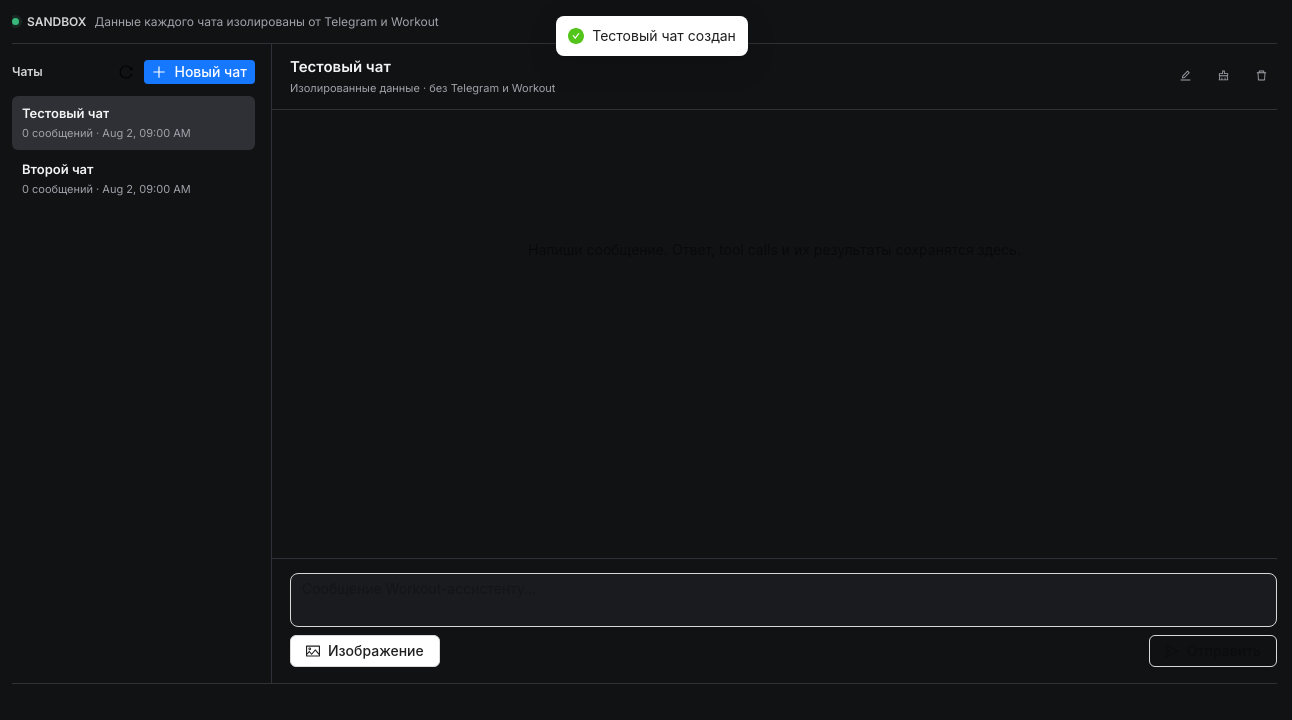
Test: AgentTestConsolePage › does not append a completed send from chat A into chat B
Type "Сообщение A" into the text box with placeholder "Сообщение Workout-ассистенту…".
click(784, 600); type("Сообщение A")  # box [290, 573, 1277, 627]
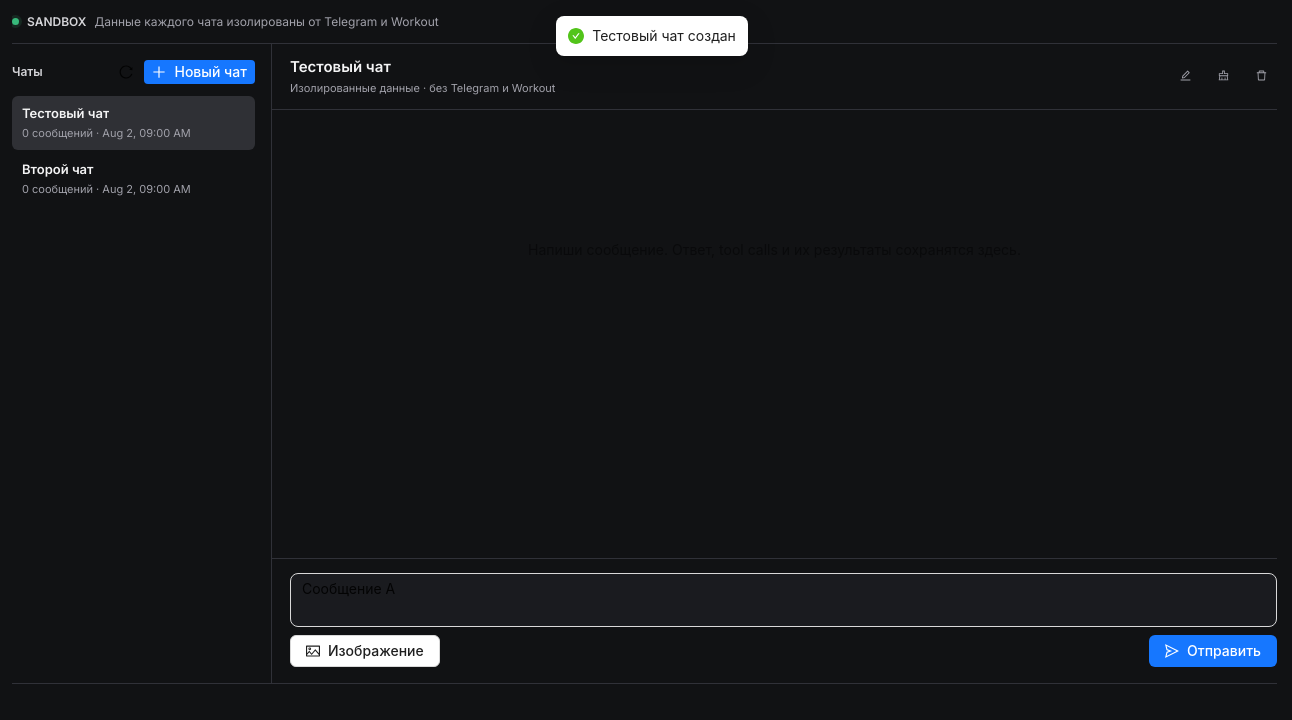
Click the button "Отправить".
click(1213, 651)  # box [1149, 635, 1277, 667]
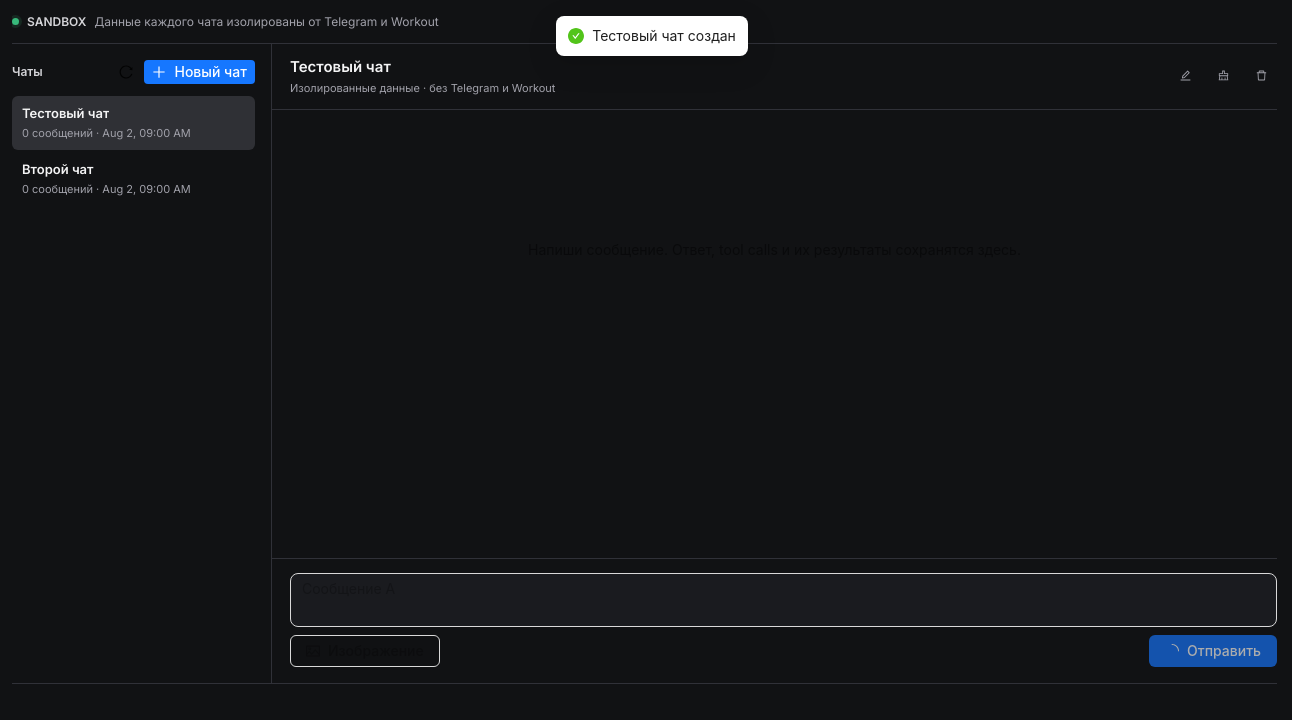
Click the button "Второй чат 0 сообщений · Aug 2, 09:00 AM".
click(134, 179)  # box [12, 152, 255, 206]
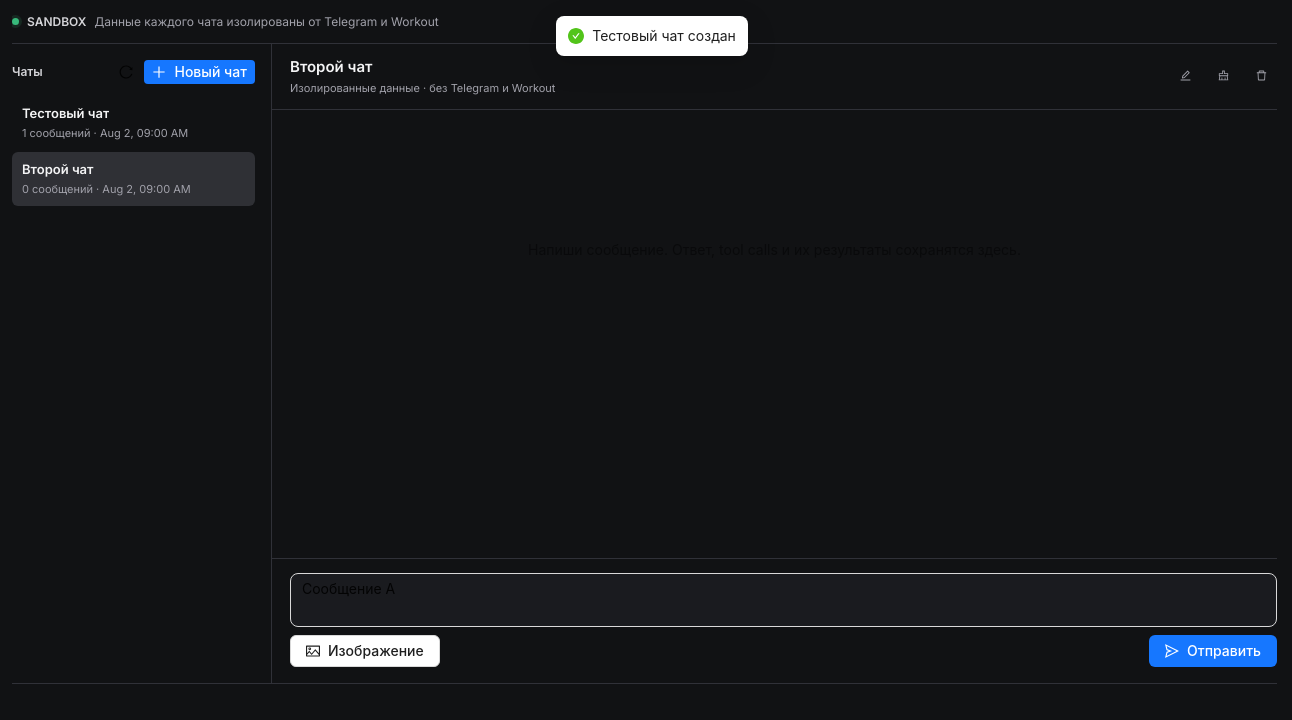
Result: the button "Отправить" is enabled at [1149, 635, 1277, 667]
Result: the heading "Второй чат" is shown at [290, 58, 372, 76]
